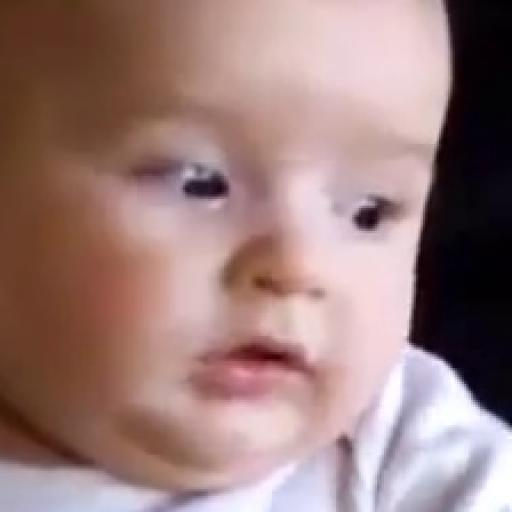Autism: (0, 1, 465, 464)
